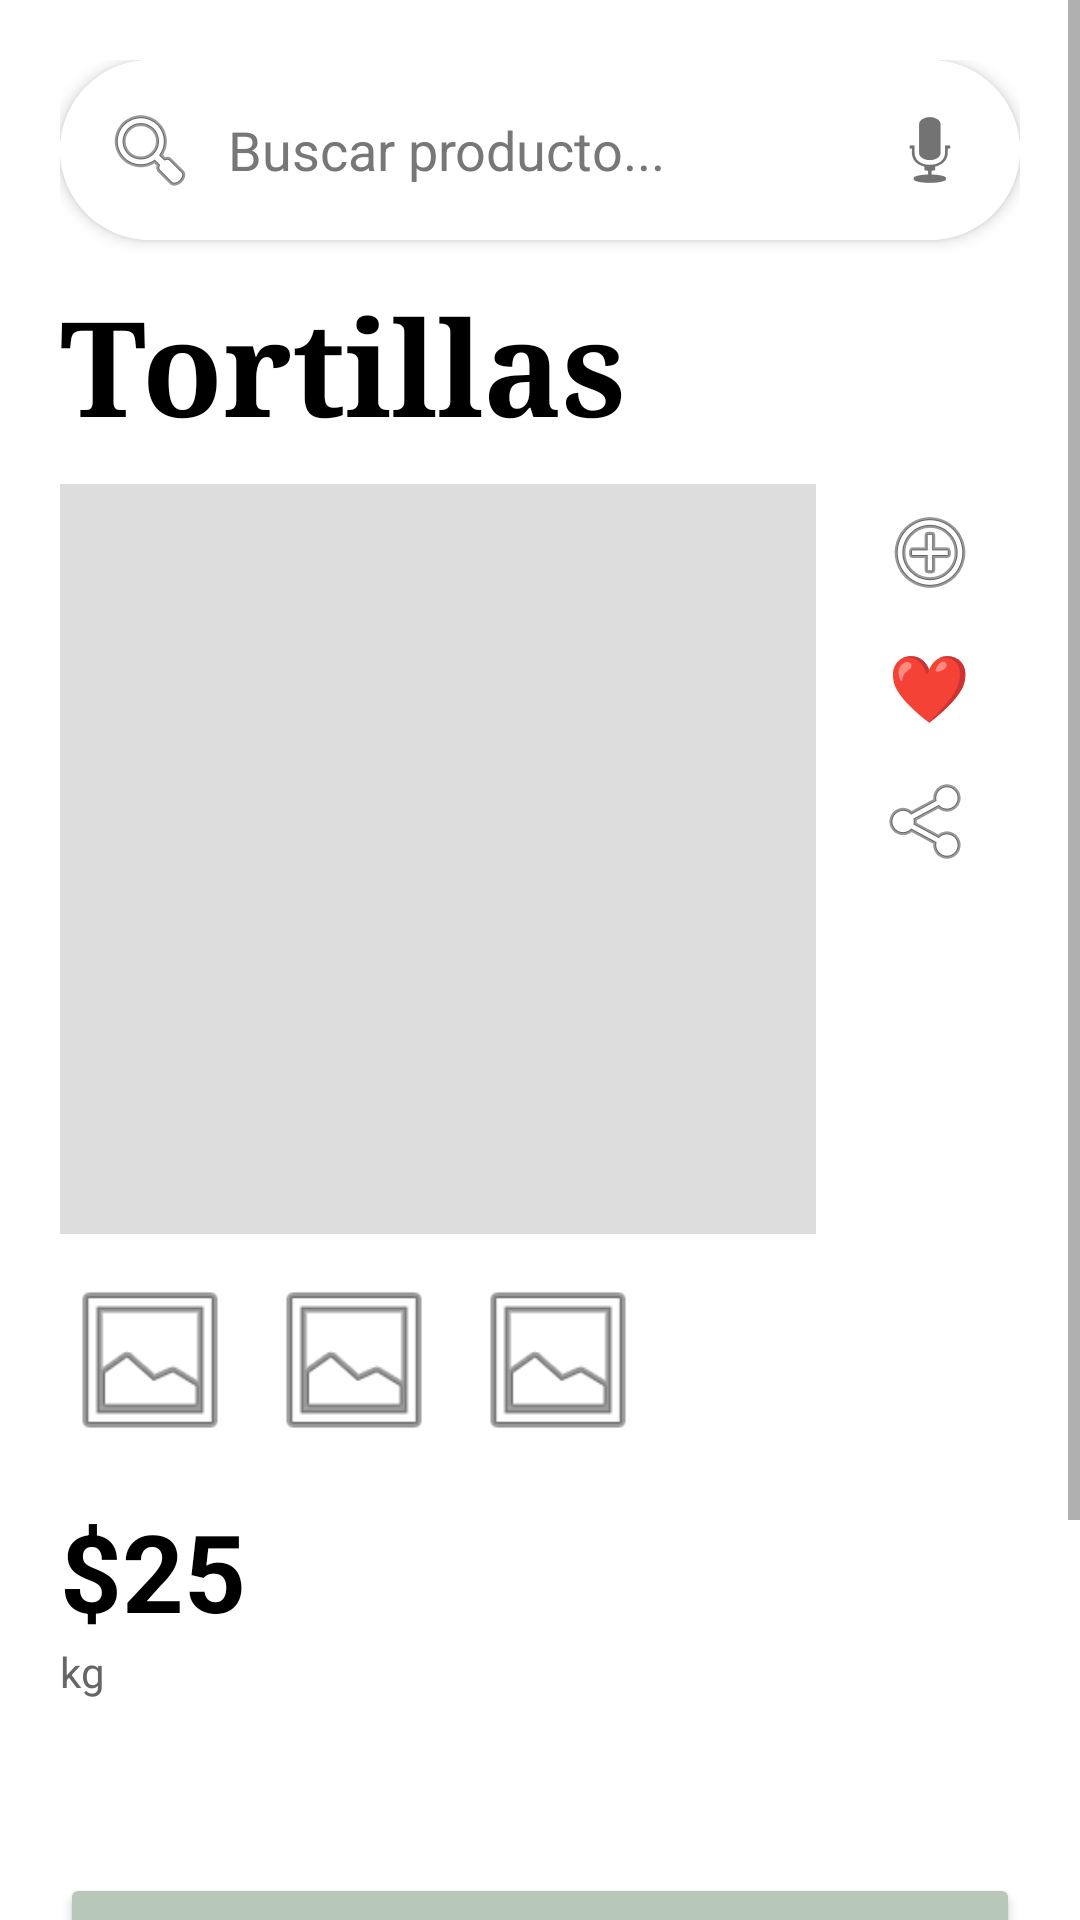

Where icons sit on this 1080x1920 app screen, as (x1, y1, x2, y2):
add: (894, 517, 966, 588)
gallery: (82, 1292, 218, 1428), (286, 1292, 422, 1428), (490, 1292, 626, 1428)
share: (889, 784, 961, 859)
